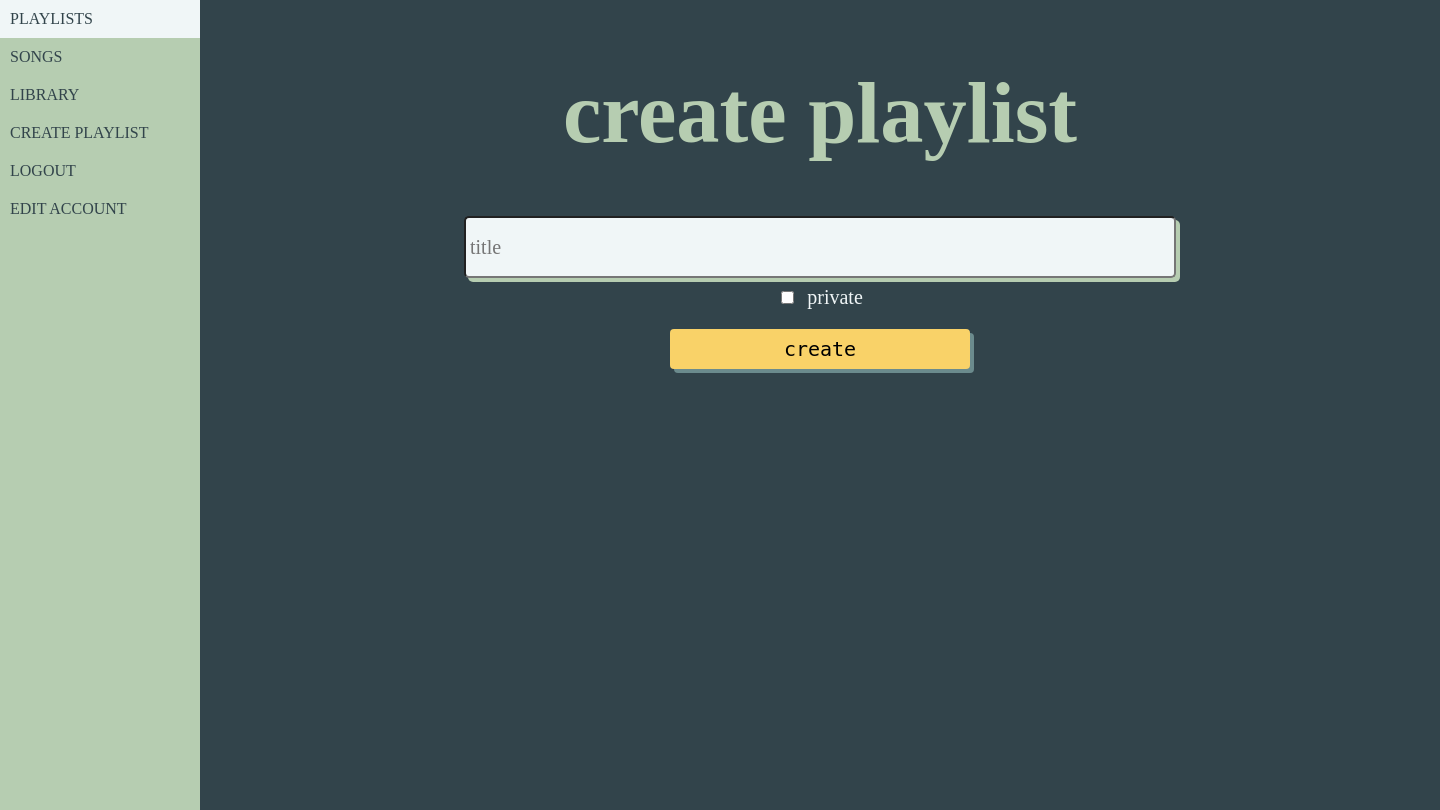
Test case: tests create error
Type "query" into the field with placeholder "title" at {"x": 820, "y": 247}, box left=464, top=216, right=1176, bottom=278
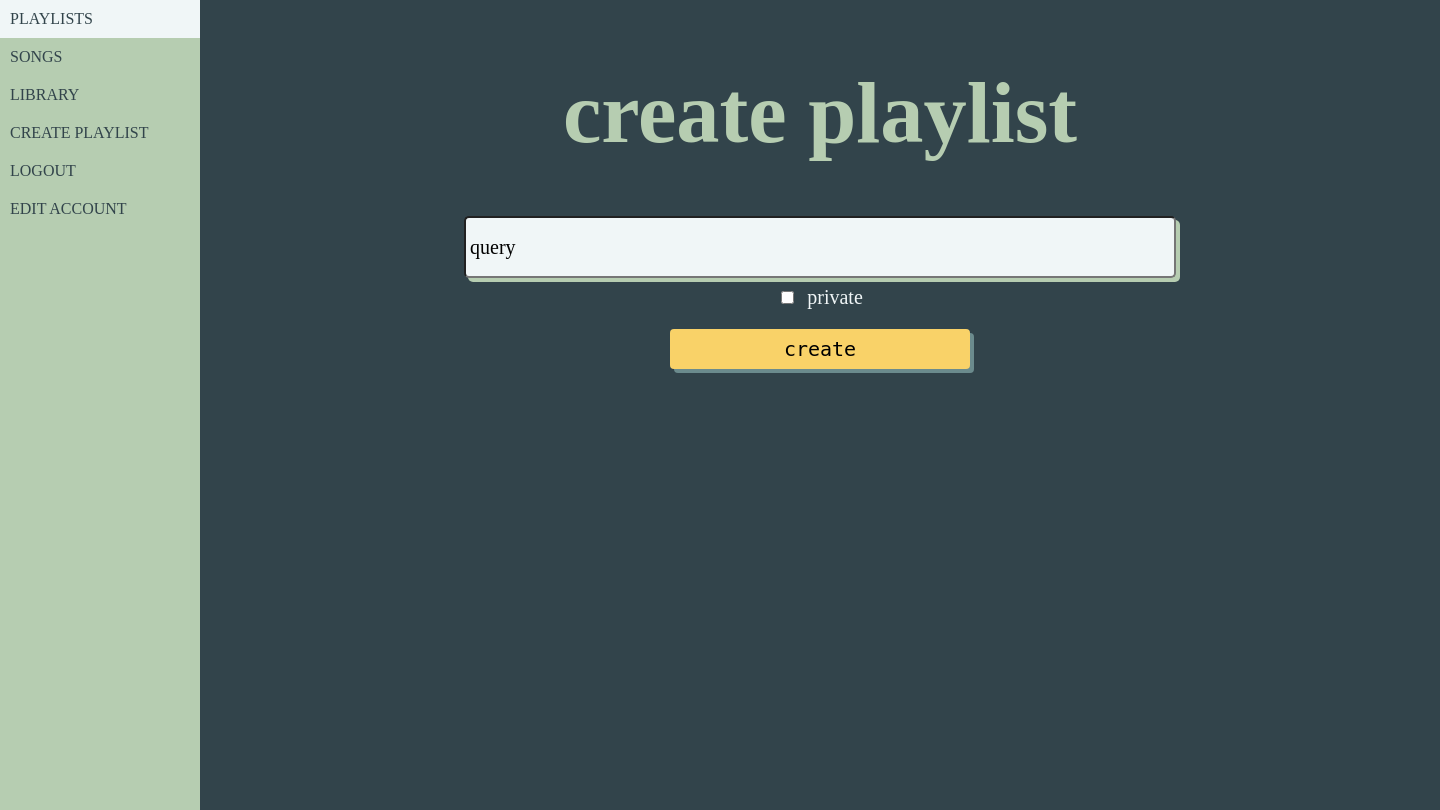
Click the button at {"x": 820, "y": 349}, box left=670, top=329, right=970, bottom=369
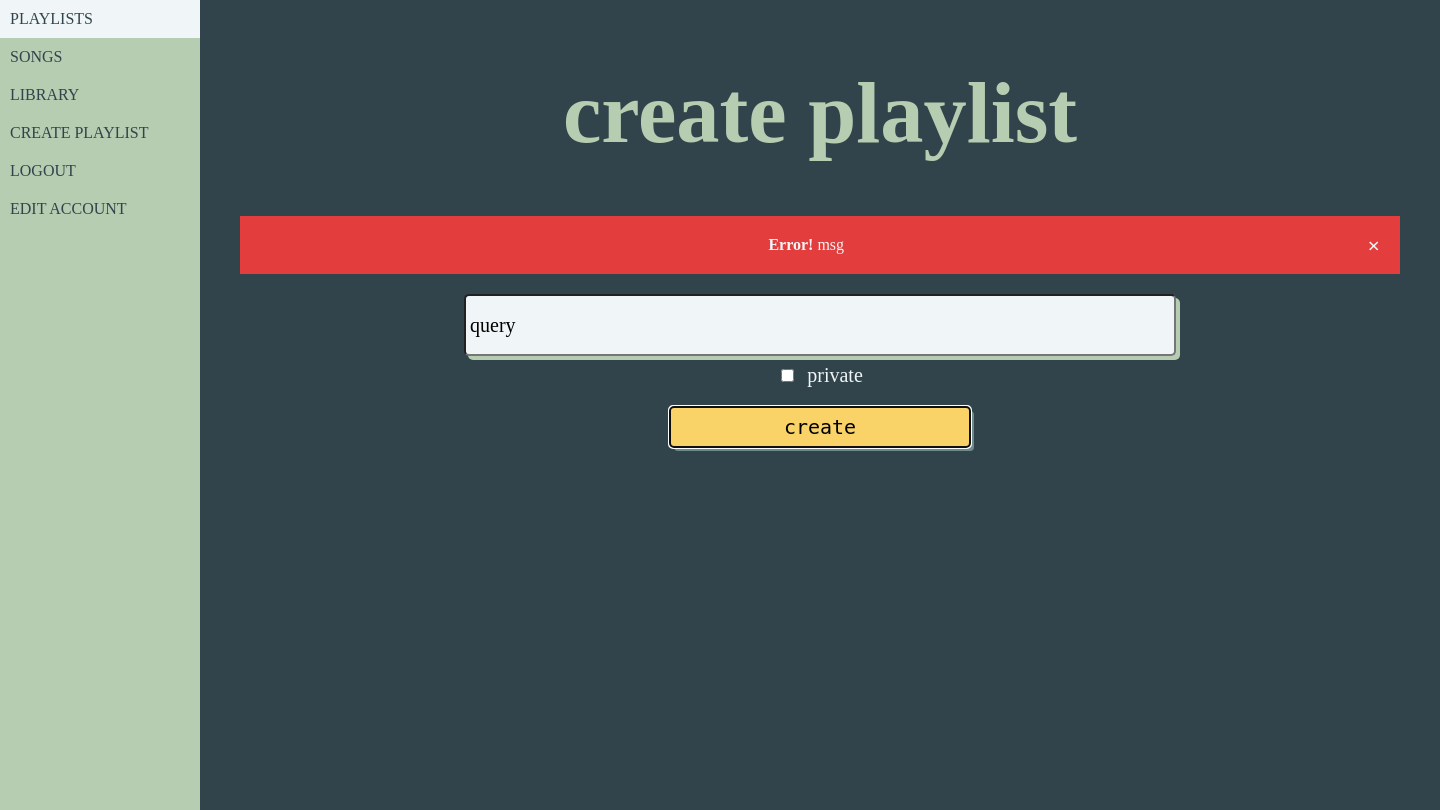
Result: the text "× Error! msg" is shown at left=240, top=216, right=1400, bottom=274
Click the text "×" at {"x": 1374, "y": 246}, box left=1368, top=236, right=1380, bottom=256
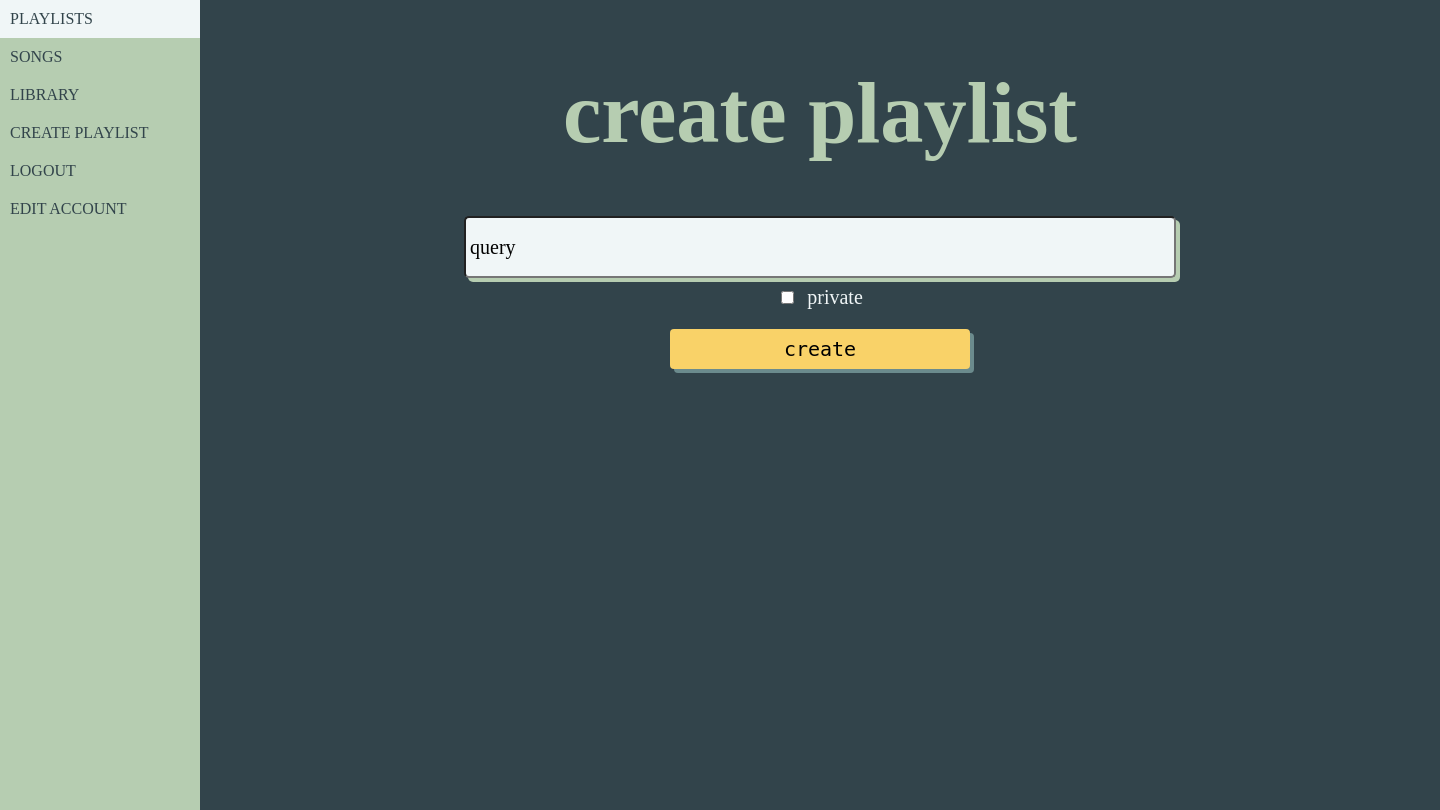
Result: the text "msg" is gone
